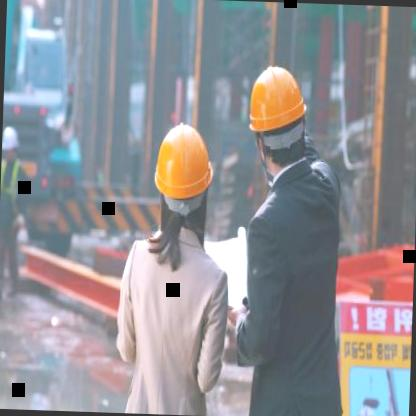helmet: (150, 109, 216, 240), (246, 53, 314, 177)
